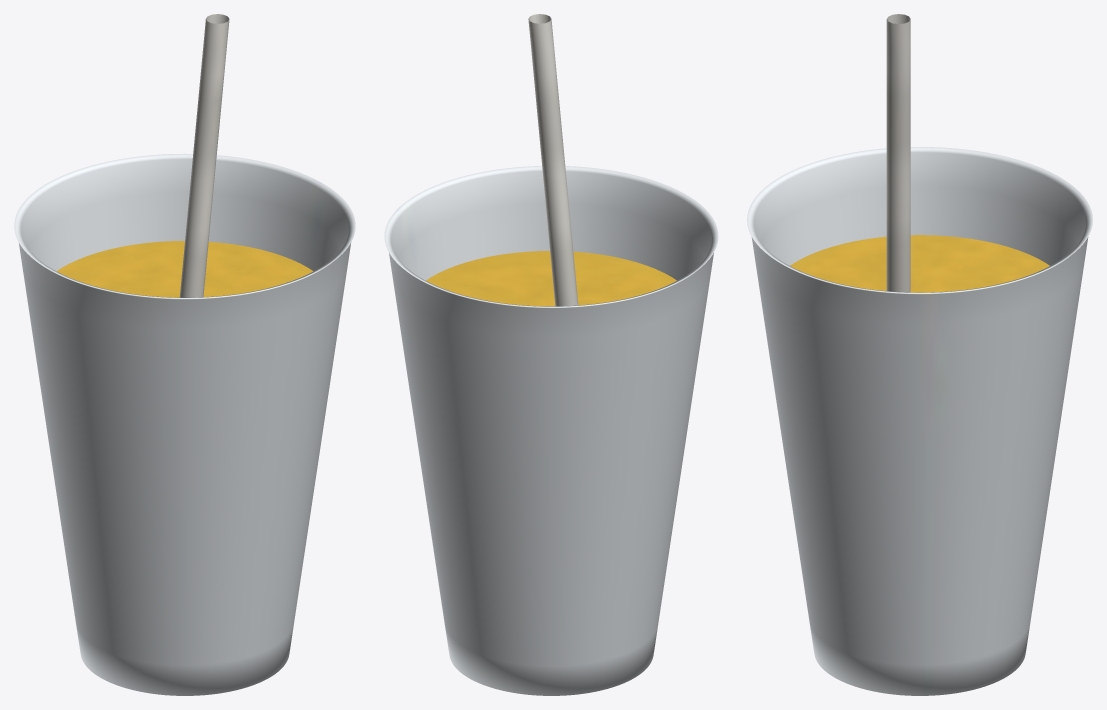
Rendered from tropicooler.glb.
The picture shows the model from 3 angles, left to right: view 1: azimuth 30°, elevation 25°; view 2: azimuth 150°, elevation 25°; view 3: azimuth 270°, elevation 25°; orthographic projection. The views are drawn at different scales.
Visible parts, largest first — view 1: clear, gloss, satin; view 2: clear, gloss, satin; view 3: clear, gloss, satin.
Boxes of the visible parts, x1,y1,x2,y2 form: clear: [14, 153, 355, 695]; gloss: [56, 241, 313, 297]; satin: [179, 14, 229, 297]; clear: [384, 166, 718, 695]; gloss: [426, 251, 676, 306]; satin: [528, 14, 578, 306]; clear: [747, 147, 1092, 695]; gloss: [790, 235, 1049, 292]; satin: [886, 14, 910, 292].
Bounding box in the file's own units: 0.098 × 0.201 × 0.098.
3 materials, 3 textured.
